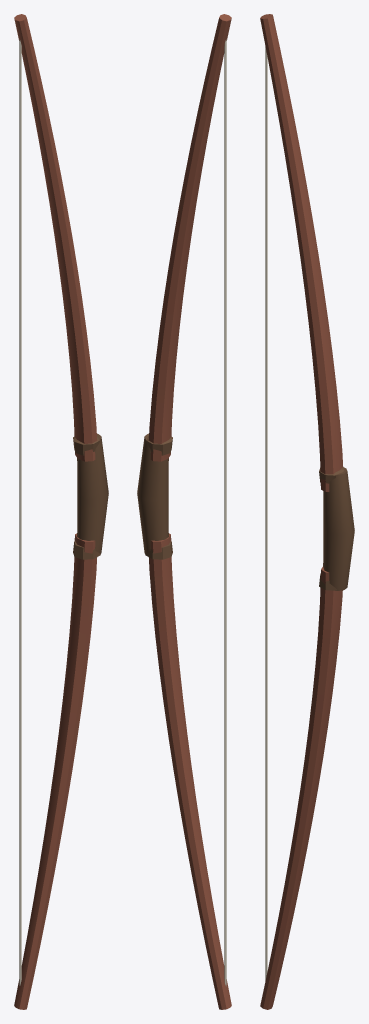
File: yew_longbow.glb
The picture shows the model from 3 angles, left to right: view 1: azimuth 30°, elevation 25°; view 2: azimuth 150°, elevation 25°; view 3: azimuth 330°, elevation 25°; orthographic projection.
Visible parts, largest first — view 1: yew_longbow; view 2: yew_longbow; view 3: yew_longbow.
Boxes of the visible parts, <box> form: yew_longbow: <box>14,14,108,1009</box>; yew_longbow: <box>137,14,231,1009</box>; yew_longbow: <box>260,14,354,1009</box>.
Bounding box in the file's own units: 0.166 × 1.72 × 0.044.
